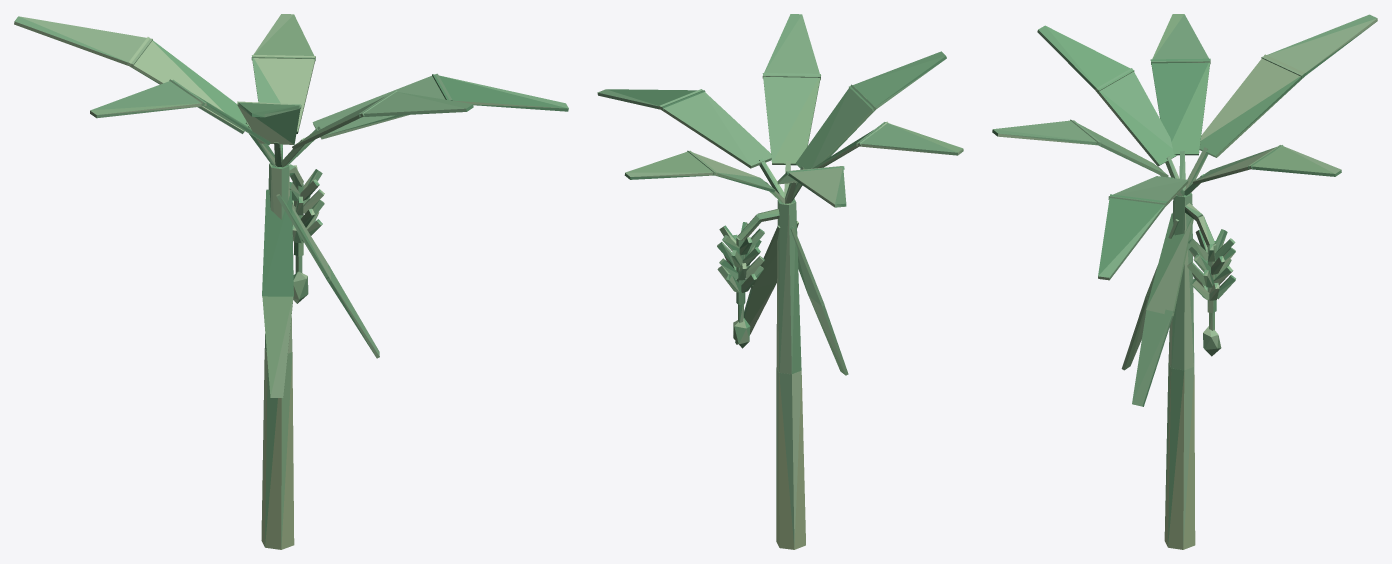
Rendered from banana-plant-00.glb.
The picture shows the model from 3 angles, left to right: view 1: azimuth 30°, elevation 25°; view 2: azimuth 150°, elevation 25°; view 3: azimuth 270°, elevation 25°; orthographic projection. The views are drawn at different scales.
Parts seen in each view (by area): view 1: banana_plant_00; view 2: banana_plant_00; view 3: banana_plant_00.
Part boxes in pixels (x1,y1,x2,y2): banana_plant_00: (14, 14, 568, 549); banana_plant_00: (597, 14, 963, 549); banana_plant_00: (992, 14, 1377, 549).
Size of the model in its own units: 2.89 by 3.21 by 2.37.
